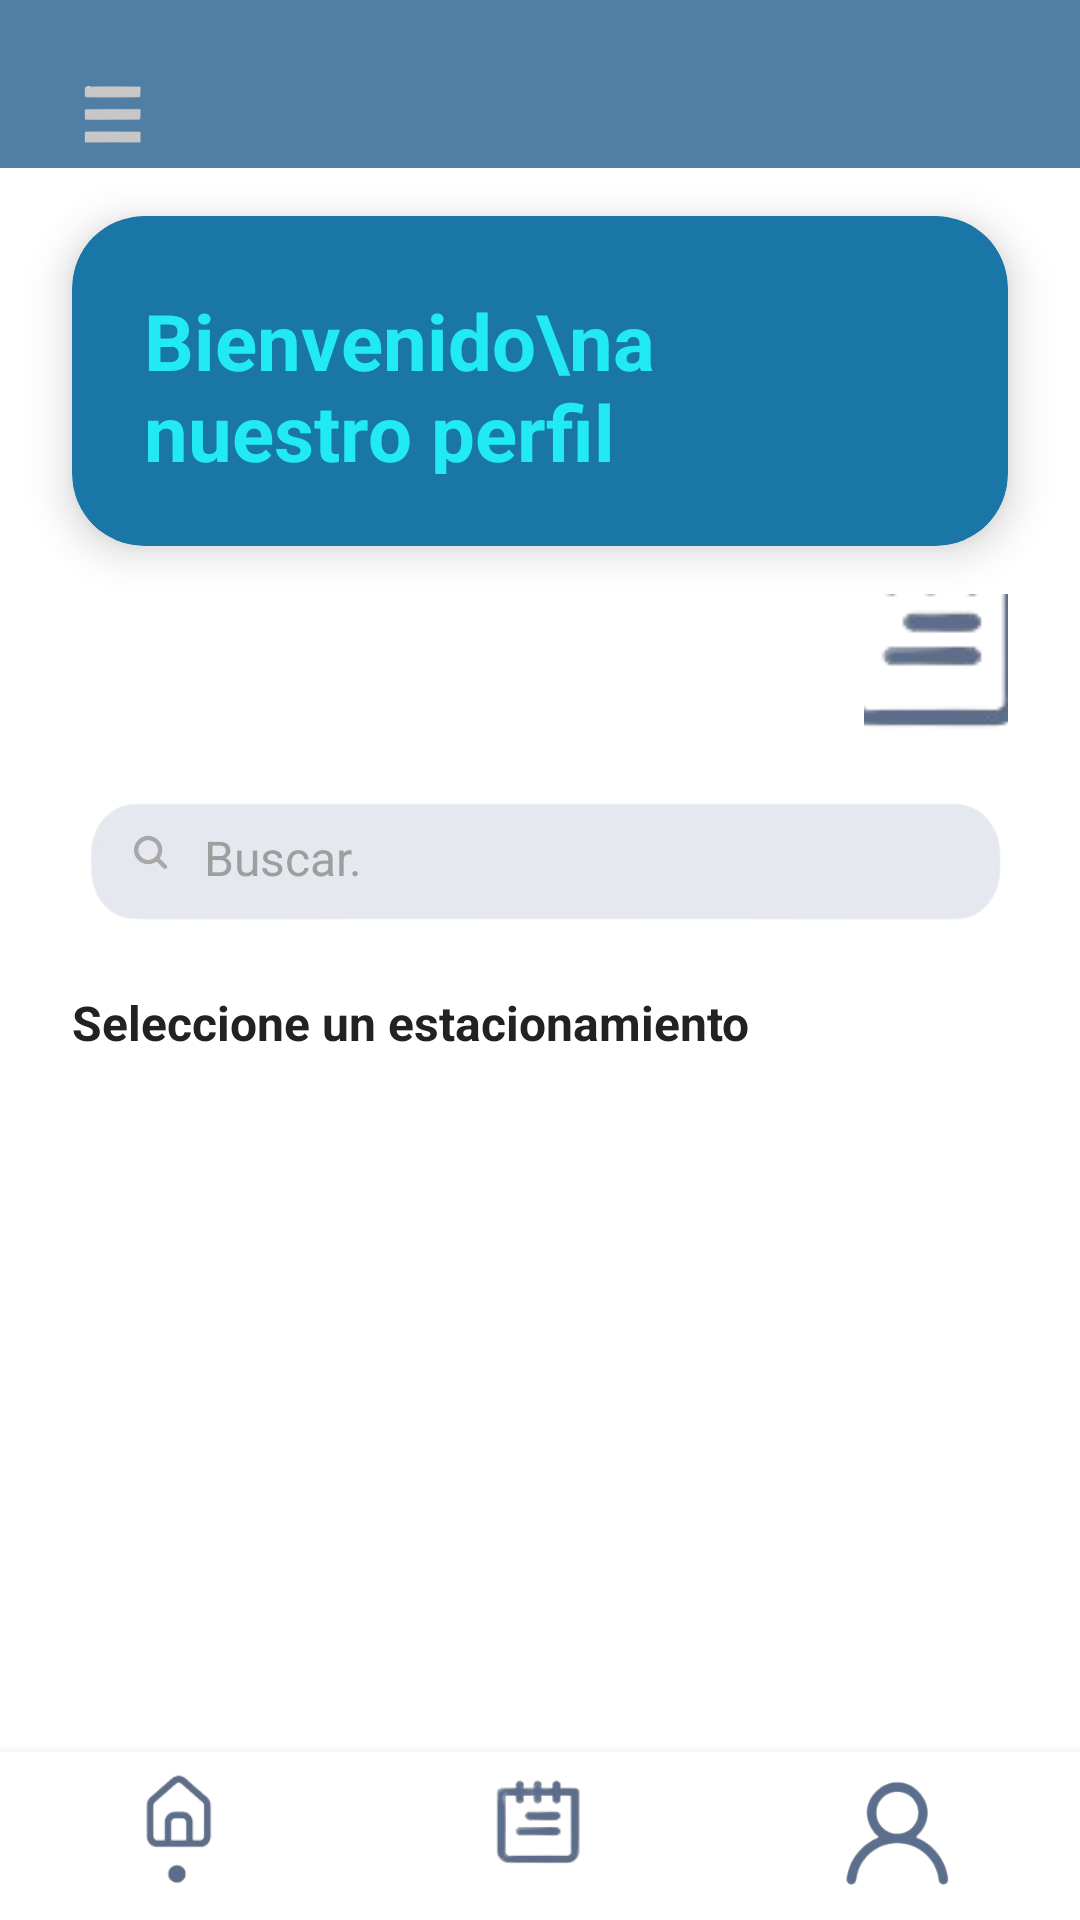

Icons on this 1080 x 1920 Android screen, each with its box as (x1, y1, x2, y2):
Calendario: (497, 1780, 580, 1863)
Inicio: (146, 1775, 211, 1883)
lupa: (134, 836, 167, 869)
Perfil: (846, 1782, 949, 1885)
